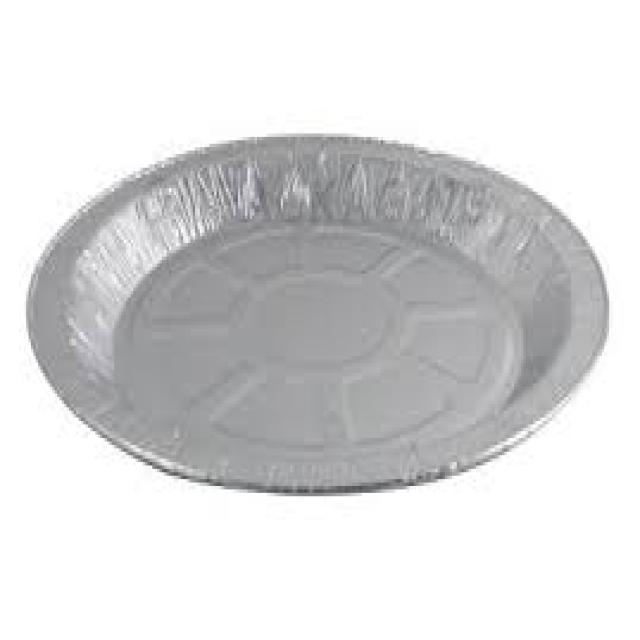metal: (24, 130, 607, 496)
